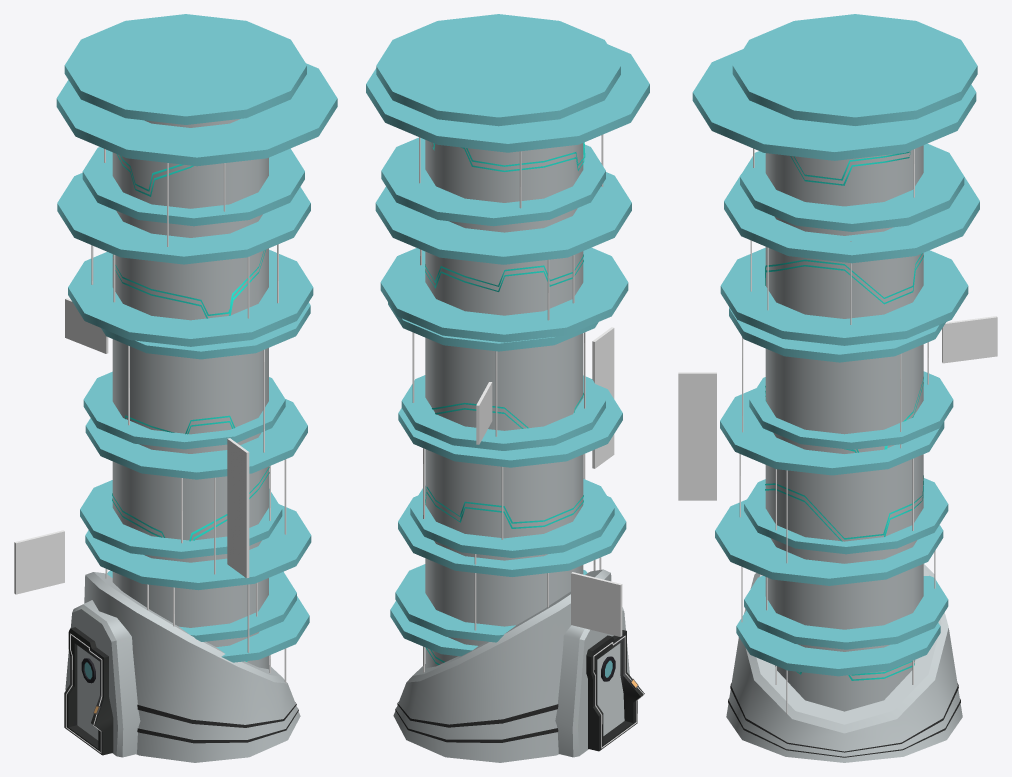
The model's file is Exchange.fbx.
The picture shows the model from 3 angles, left to right: view 1: azimuth 30°, elevation 25°; view 2: azimuth 150°, elevation 25°; view 3: azimuth 270°, elevation 25°; orthographic projection.
Visible parts, largest first — view 1: Exchange; view 2: Exchange; view 3: Exchange.
Boxes of the visible parts, x1,y1,x2,y2 form: Exchange: (14, 14, 337, 762); Exchange: (366, 14, 649, 762); Exchange: (678, 14, 997, 762).
Bounding box in the file's own units: 20.97 × 48.13 × 21.38.
Materials: 2 (2 with a texture image).
